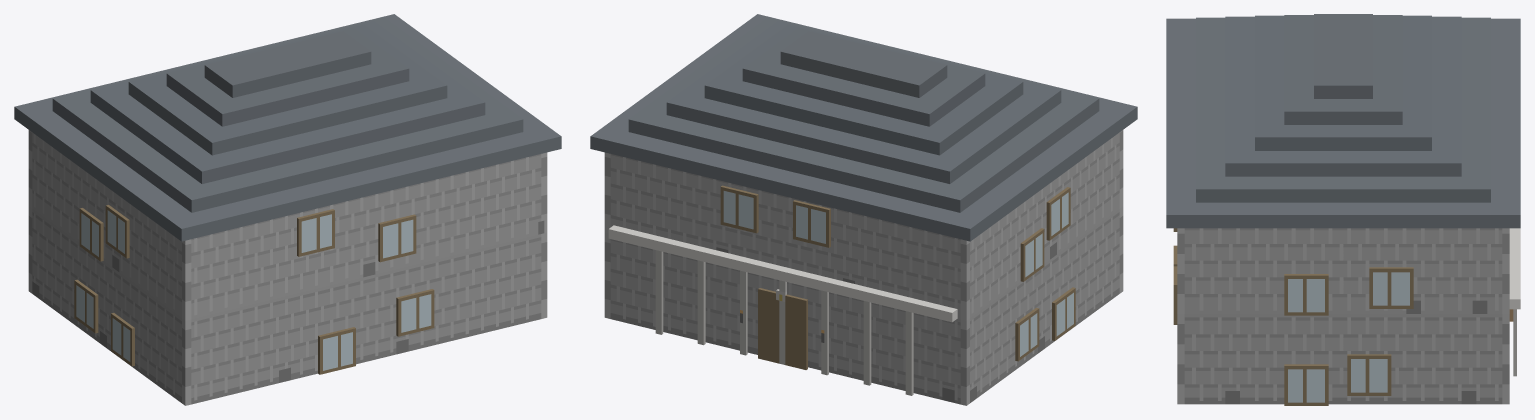
File: museo_03.glb
The picture shows the model from 3 angles, left to right: view 1: azimuth 30°, elevation 25°; view 2: azimuth 150°, elevation 25°; view 3: azimuth 270°, elevation 25°; orthographic projection. The views are drawn at different scales.
Visible parts, largest first — view 1: museo_03; view 2: museo_03; view 3: museo_03.
Boxes of the visible parts, x1,y1,x2,y2 form: museo_03: (14, 14, 561, 405); museo_03: (590, 14, 1137, 405); museo_03: (1166, 14, 1520, 405).
Size of the model in its own units: 12.6 by 7.8 by 9.6.
